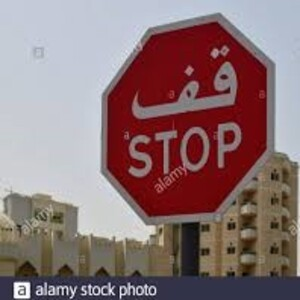stop: (105, 20, 275, 227)
